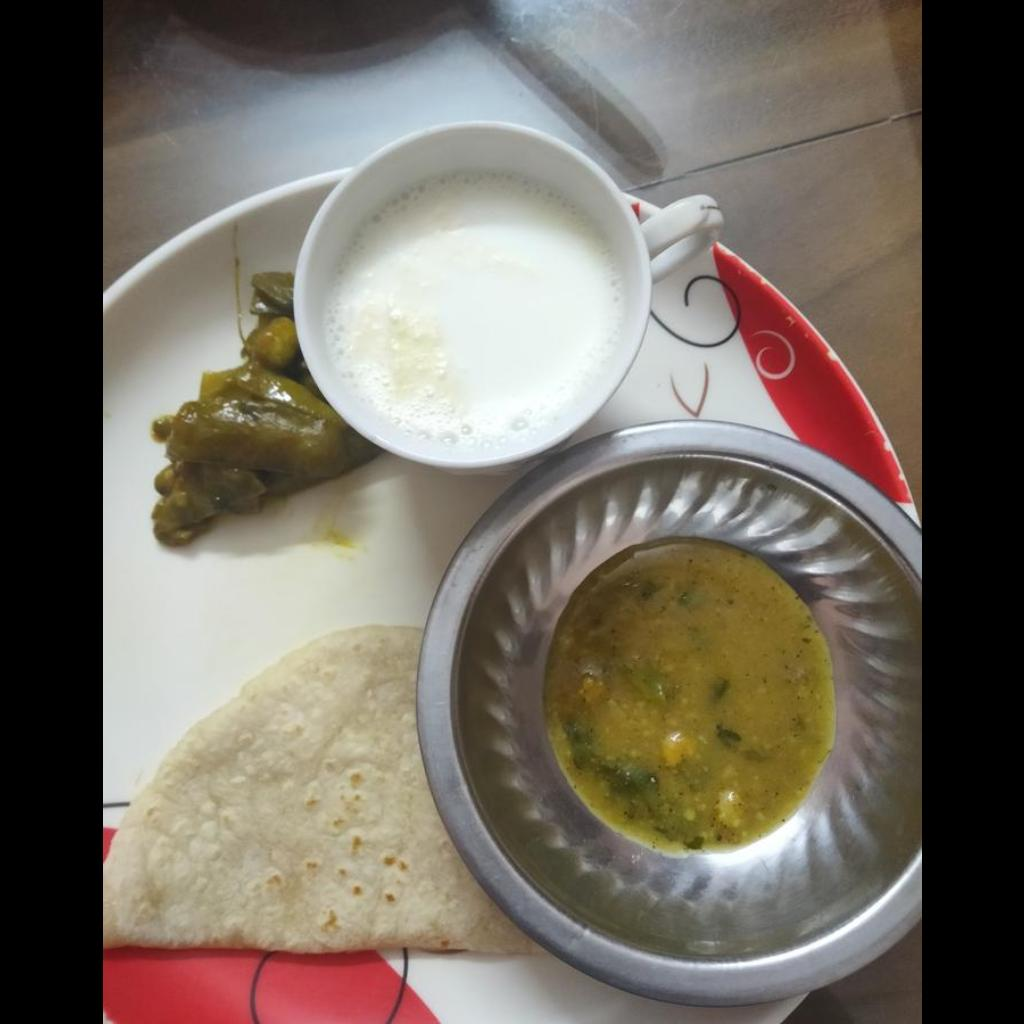daal: (542, 544, 826, 852)
milk: (334, 171, 625, 434)
potol: (151, 274, 375, 546)
ruti: (103, 625, 555, 959)
